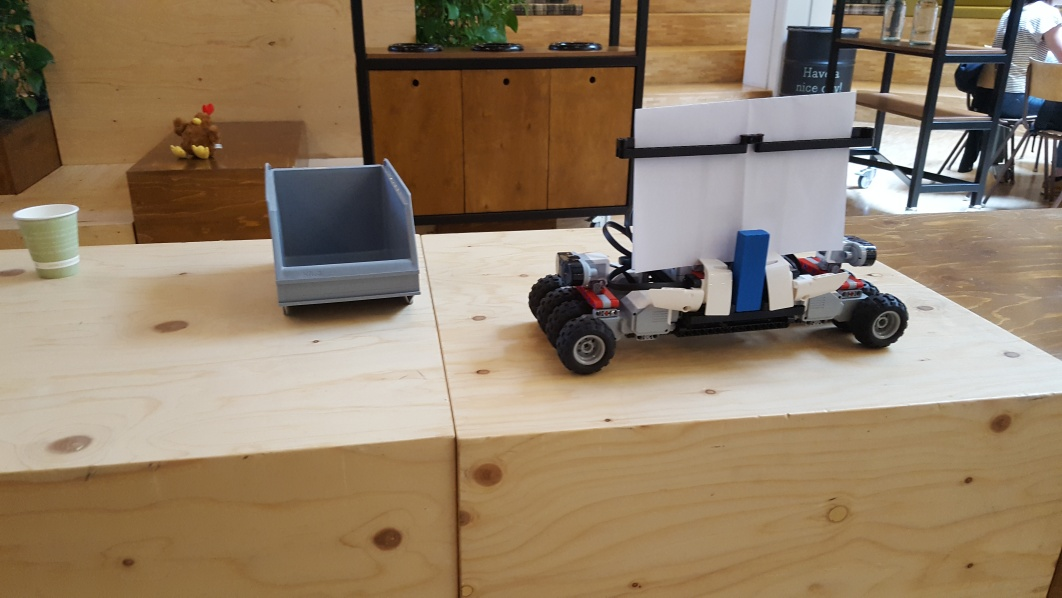car: (530, 89, 908, 378)
chicken: (170, 104, 224, 157)
cup: (15, 200, 83, 281)
tray: (258, 157, 422, 315)
